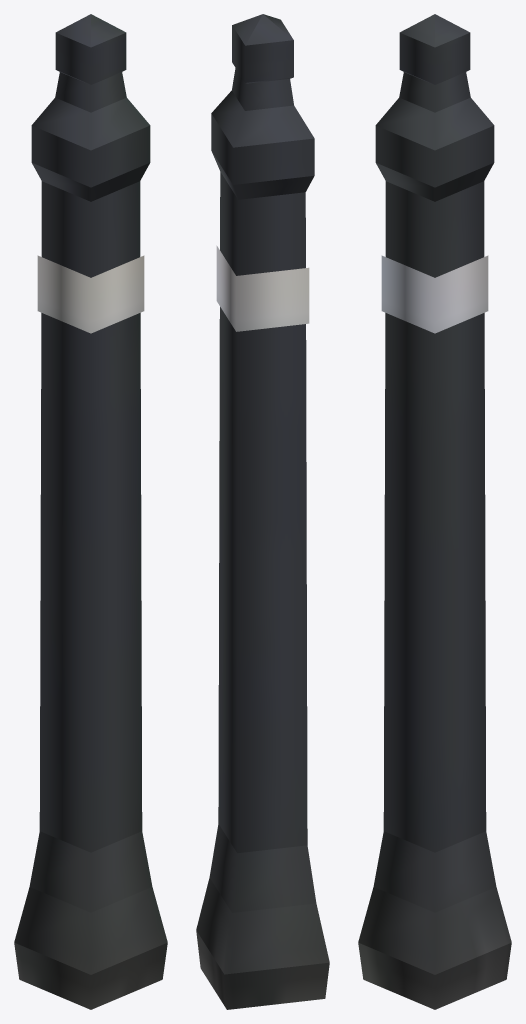
File: potelet_lod2.glb
3 renders of one model, left to right at view 1: azimuth 90°, elevation 25°; view 2: azimuth 150°, elevation 25°; view 3: azimuth 270°, elevation 25°, orthographic.
Visible parts, largest first — view 1: potelet; view 2: potelet; view 3: potelet.
Part boxes in pixels (x1,y1,x2,y2): potelet: (14,14,167,1009); potelet: (196,14,329,1009); potelet: (358,14,511,1009).
Bounding box in the file's own units: 0.15 × 1.04 × 0.15.
1 material, 1 textured.
